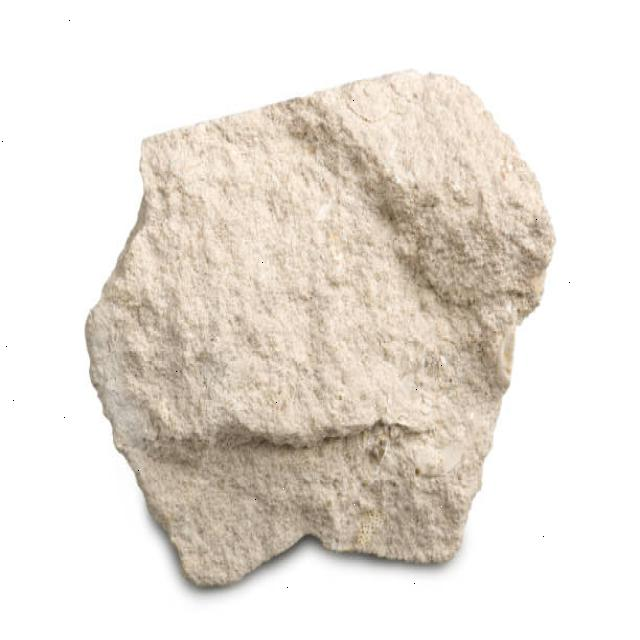Sedimentary: (80, 61, 556, 592)
